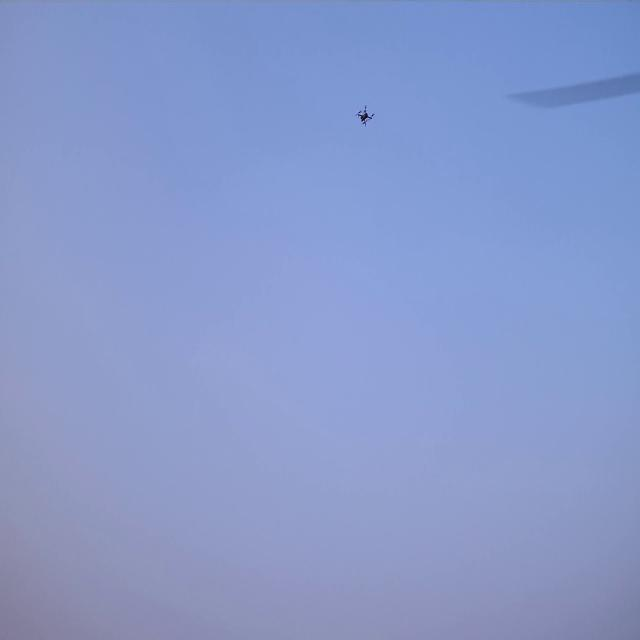UAV: (358, 107, 373, 126)
